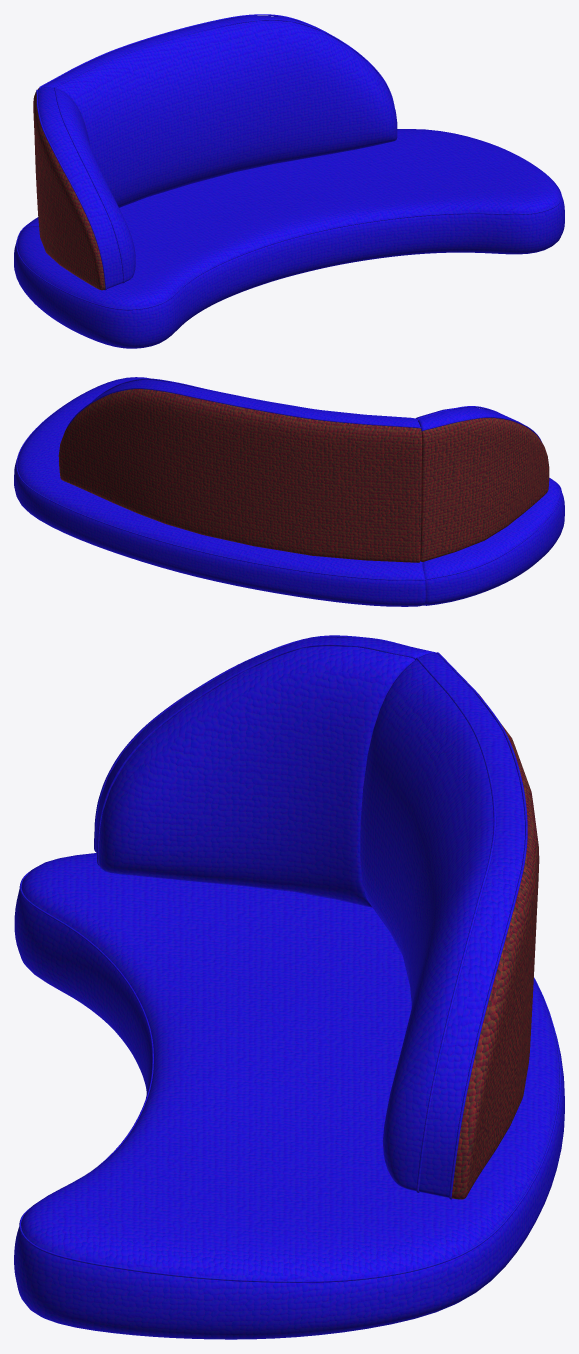
Rendered from levante_recamiere.gltf.
The picture shows the model from 3 angles, top to bottom: view 1: azimuth 30°, elevation 25°; view 2: azimuth 150°, elevation 25°; view 3: azimuth 270°, elevation 25°; orthographic projection. The views are drawn at different scales.
Visible parts, largest first — view 1: recamiere; view 2: recamiere; view 3: recamiere.
Part boxes in pixels (x1,y1,x2,y2): recamiere: (14, 14, 564, 348); recamiere: (14, 377, 564, 606); recamiere: (14, 635, 564, 1339).
Bounding box in the file's own units: 1.86 × 0.652 × 1.01.
2 materials, 2 textured.
